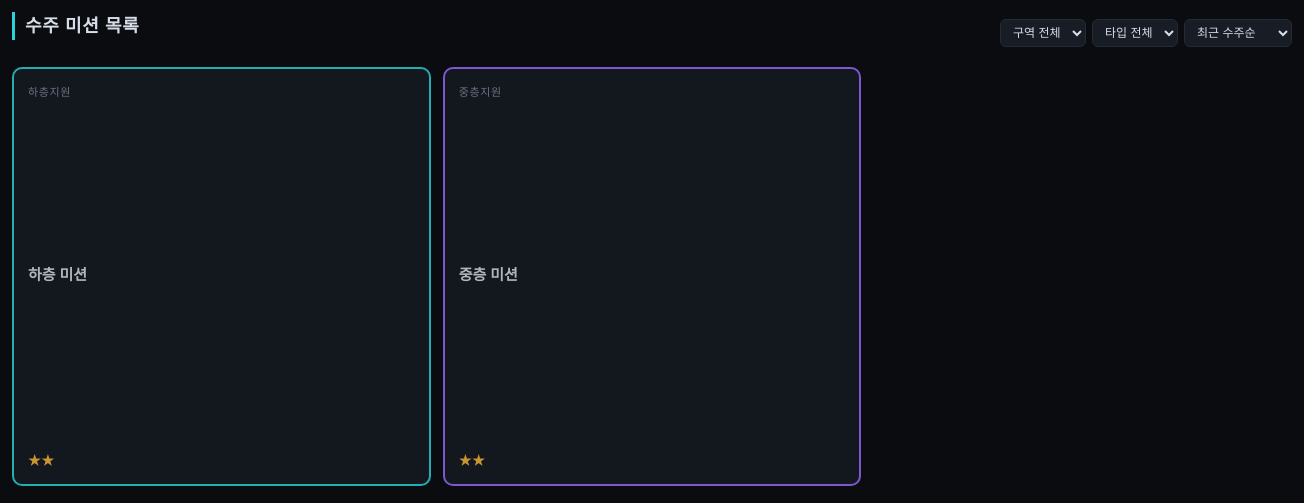
it: AcceptedMissions 컴포넌트 단위 테스트 › case 4: 구역 필터(하층 선택) 시 다른 구역 미션이 사라진다
필터 select box: 첫번째 select가 구역 필터
Select "하층" in the 1st dropdown. click: (1043, 33)
box: [1000,19,1086,47]
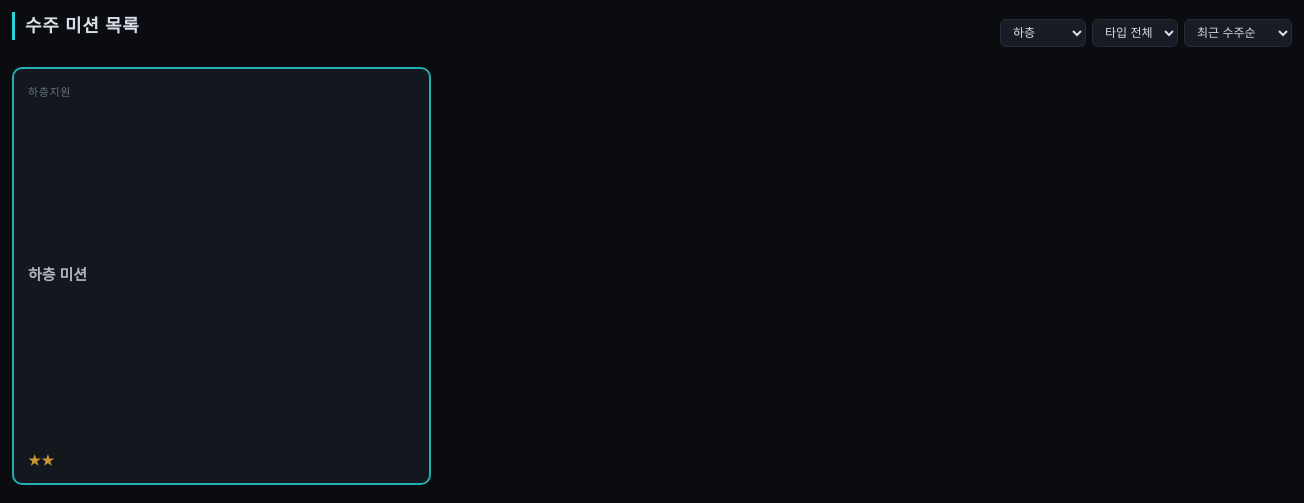
Expected: the text "하층 미션" is shown, [28,264,87,285]
Expected: the button "중층 미션" is gone
